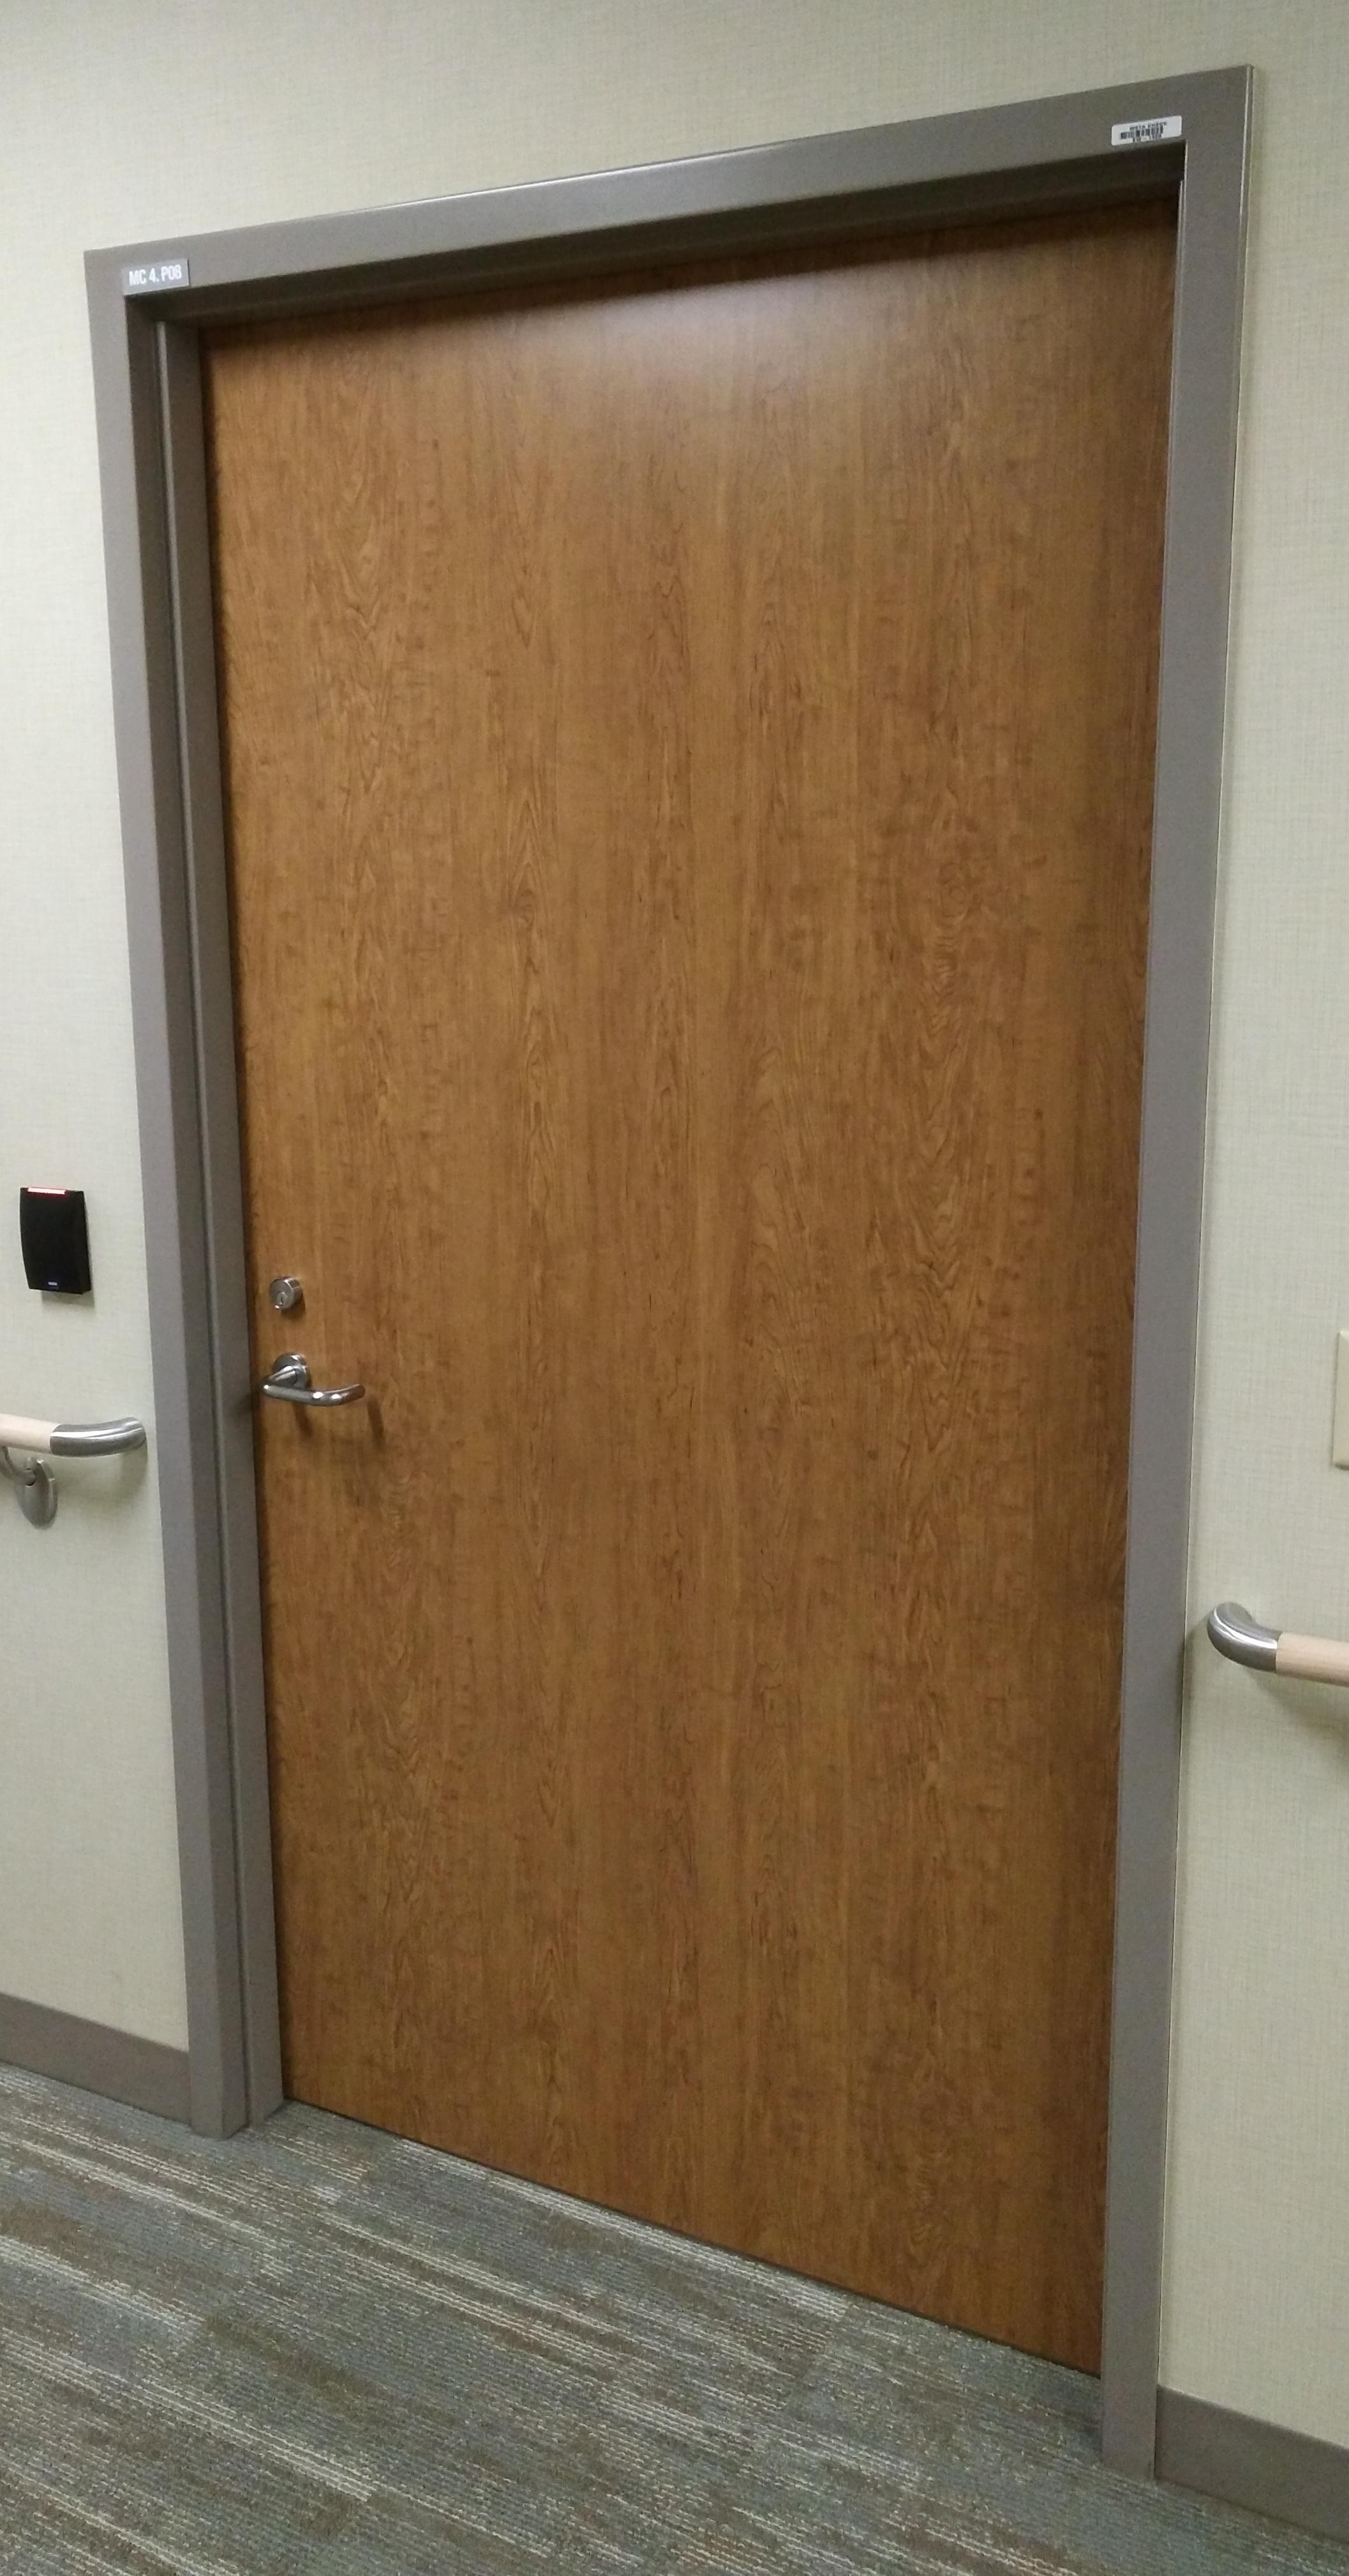door: (169, 102, 1174, 2365)
